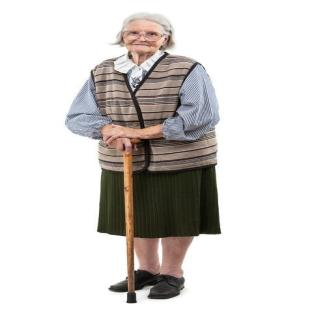Human: (65, 12, 220, 298), (109, 279, 126, 291)
